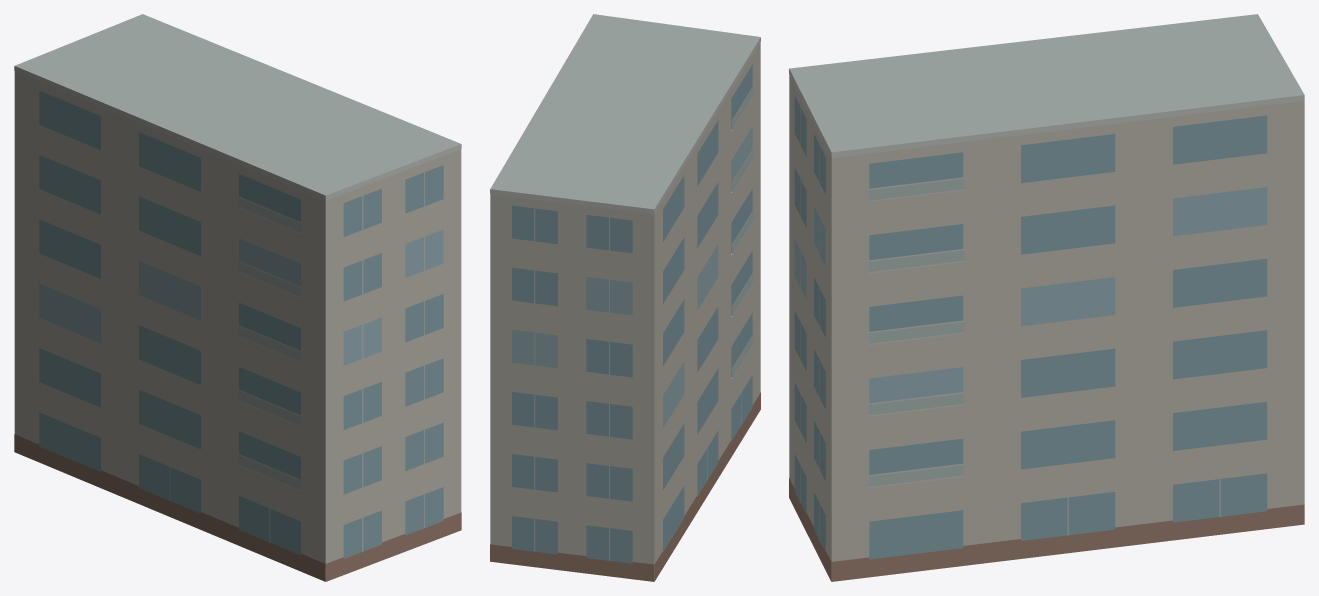
File: survey-upis-32719798.glb
3 renders of one model, left to right at view 1: azimuth 30°, elevation 25°; view 2: azimuth 150°, elevation 25°; view 3: azimuth 270°, elevation 25°, orthographic. The views are drawn at different scales.
Visible parts, largest first — view 1: survey-upis-32719798.tmp; view 2: survey-upis-32719798.tmp; view 3: survey-upis-32719798.tmp.
Boxes of the visible parts, x1,y1,x2,y2 form: survey-upis-32719798.tmp: (14, 14, 461, 581); survey-upis-32719798.tmp: (490, 14, 760, 581); survey-upis-32719798.tmp: (789, 14, 1304, 581).
Size of the model in its own units: 12.66 by 18.3 by 19.92.
